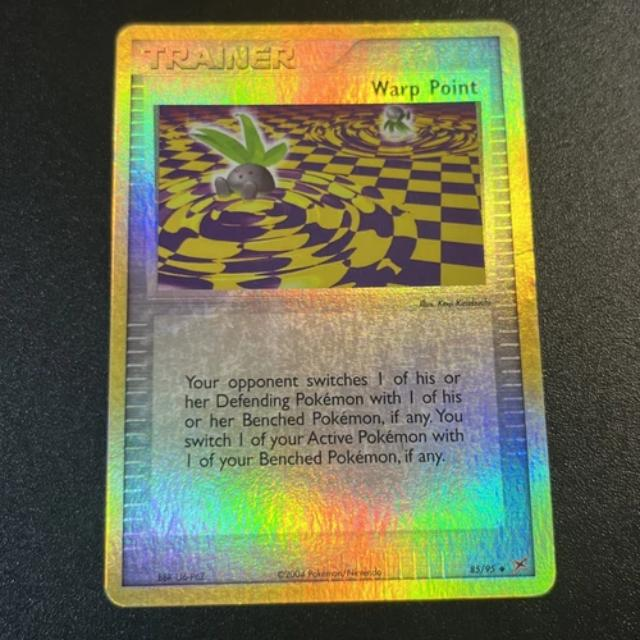Card: (95, 13, 564, 616)
Name: (361, 76, 488, 106)
